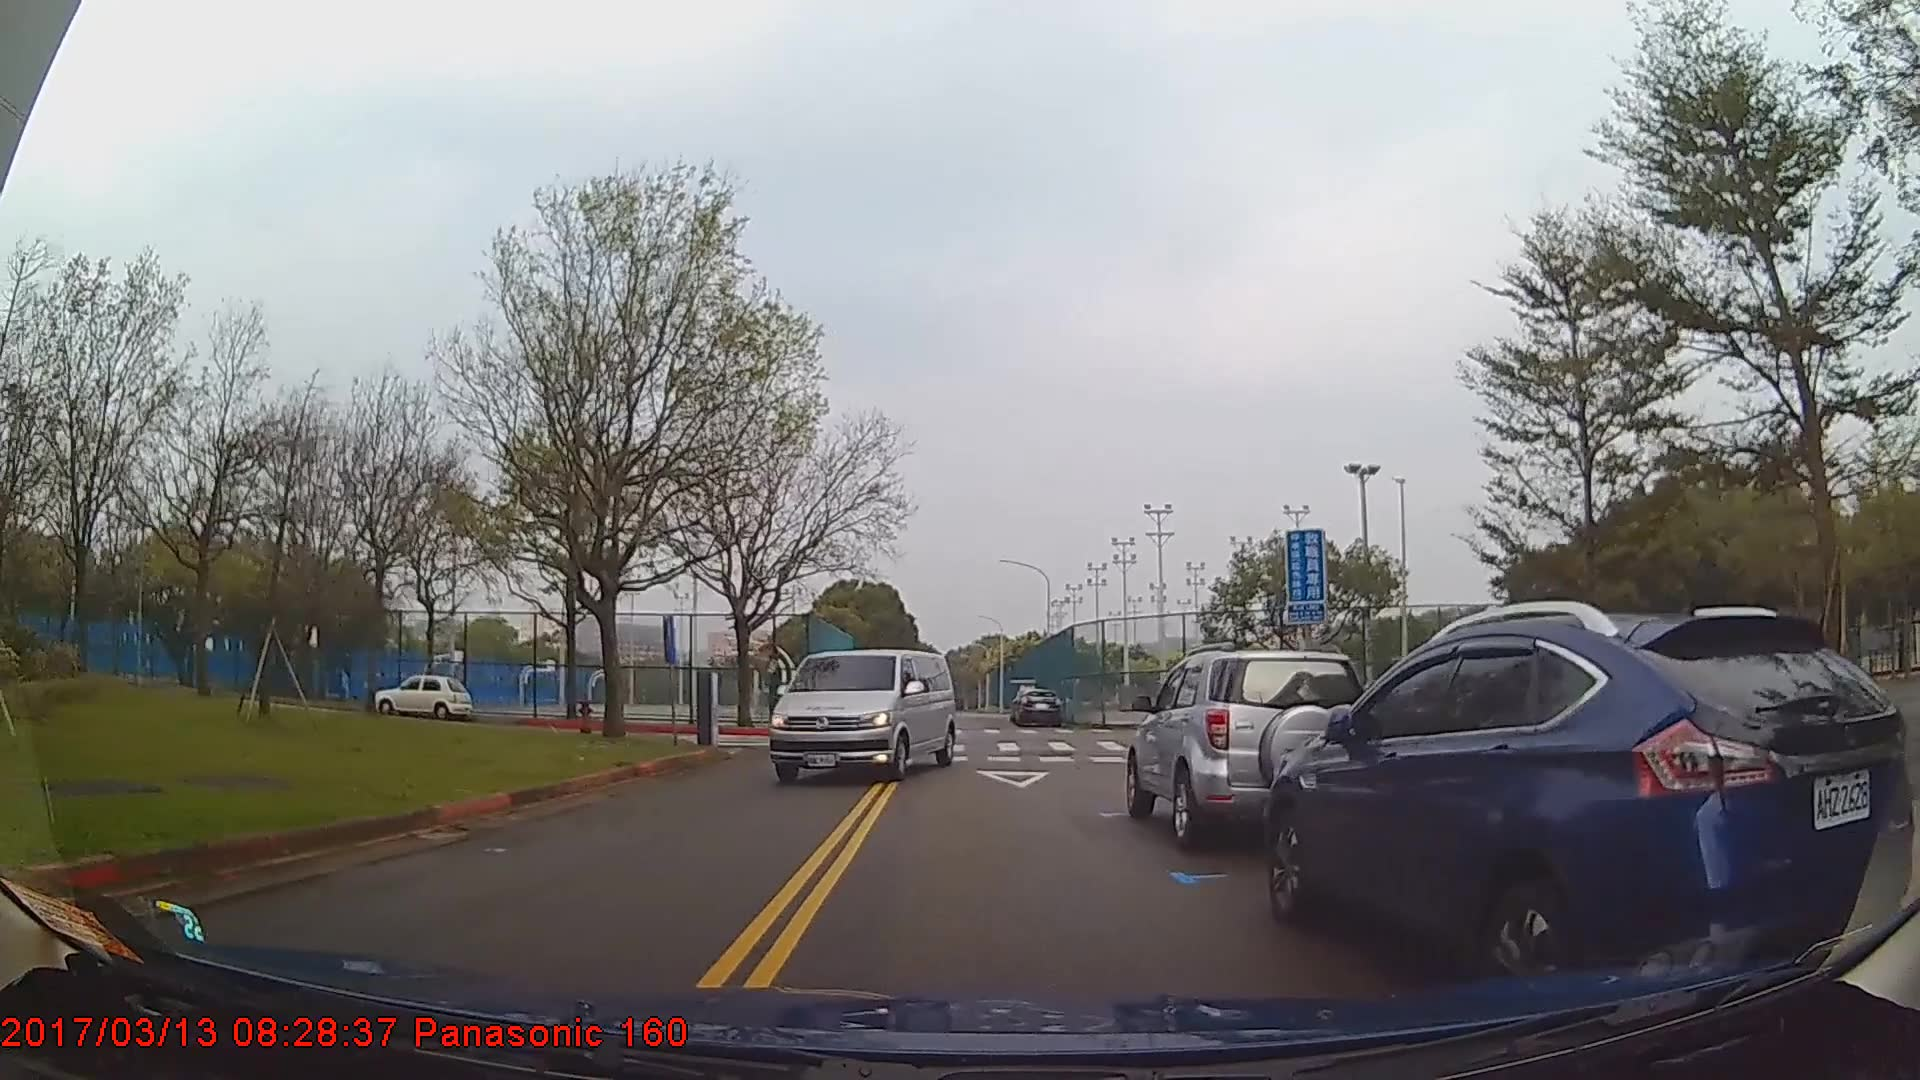vehicle: (1265, 607, 1909, 1010), (1124, 645, 1375, 849), (765, 646, 955, 781), (376, 671, 472, 717), (1018, 684, 1065, 727)
